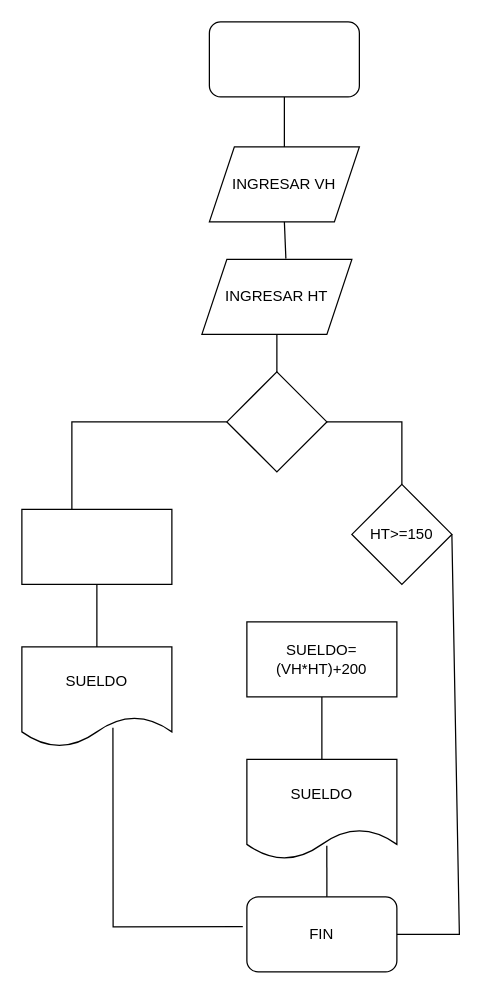
This 483x994 diagram has some shape labels left out. Here are the shapes that lost their labels. From the top down, the centre of each, then its label:
At point 283,59: "INICIO".
At point 276,421: "HT>= && HT<150".
At point 96,546: "SUELDO=(VH*HT)+100".
